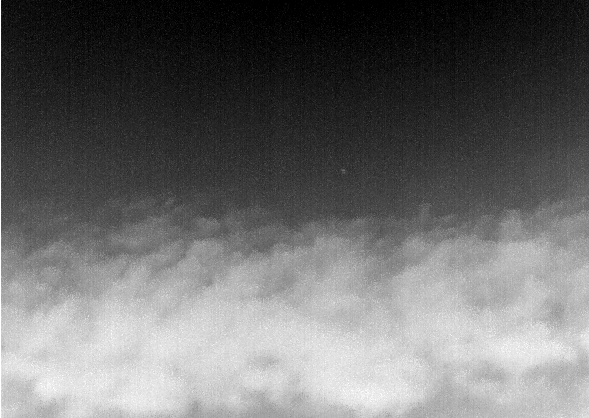dim target: (340, 168, 346, 175)
